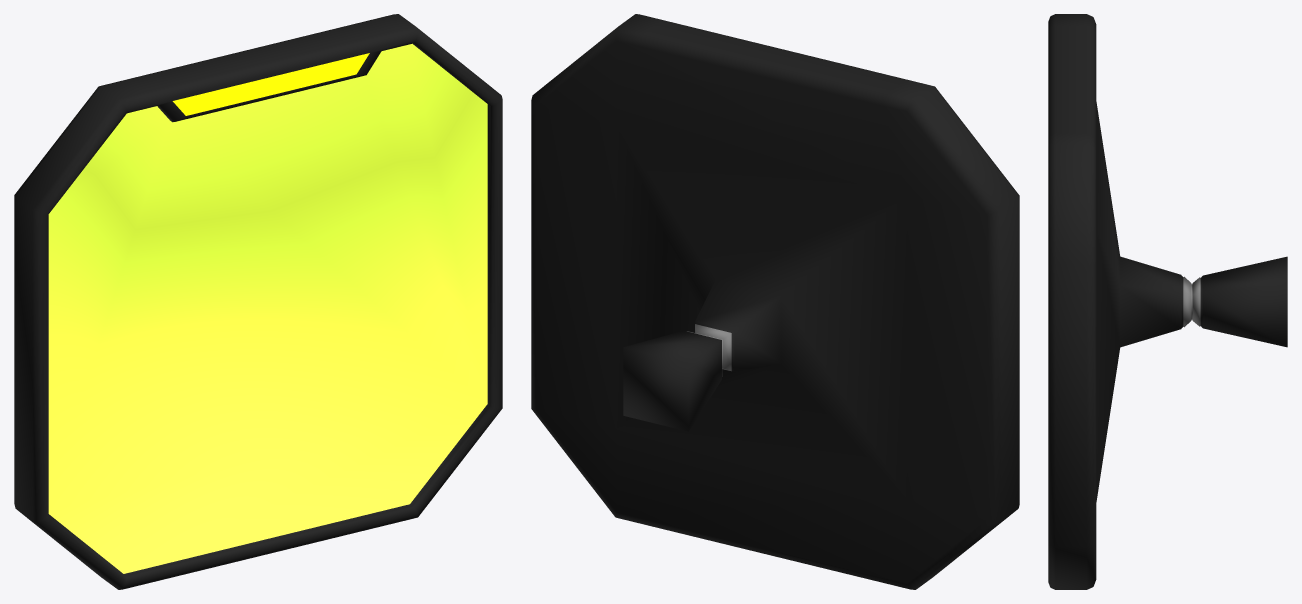
File: placeable-light.glb
3 renders of one model, left to right at view 1: azimuth 30°, elevation 25°; view 2: azimuth 150°, elevation 25°; view 3: azimuth 270°, elevation 25°, orthographic. The views are drawn at different scales.
Visible parts, largest first — view 1: Cube; view 2: Cube; view 3: Cube.
Part boxes in pixels (<box>): Cube: <box>14,14,502,589</box>; Cube: <box>531,14,1019,589</box>; Cube: <box>1048,14,1287,589</box>.
Bounding box in the file's own units: 2 × 2 × 0.9763.
Materials: 1 (1 with a texture image).
